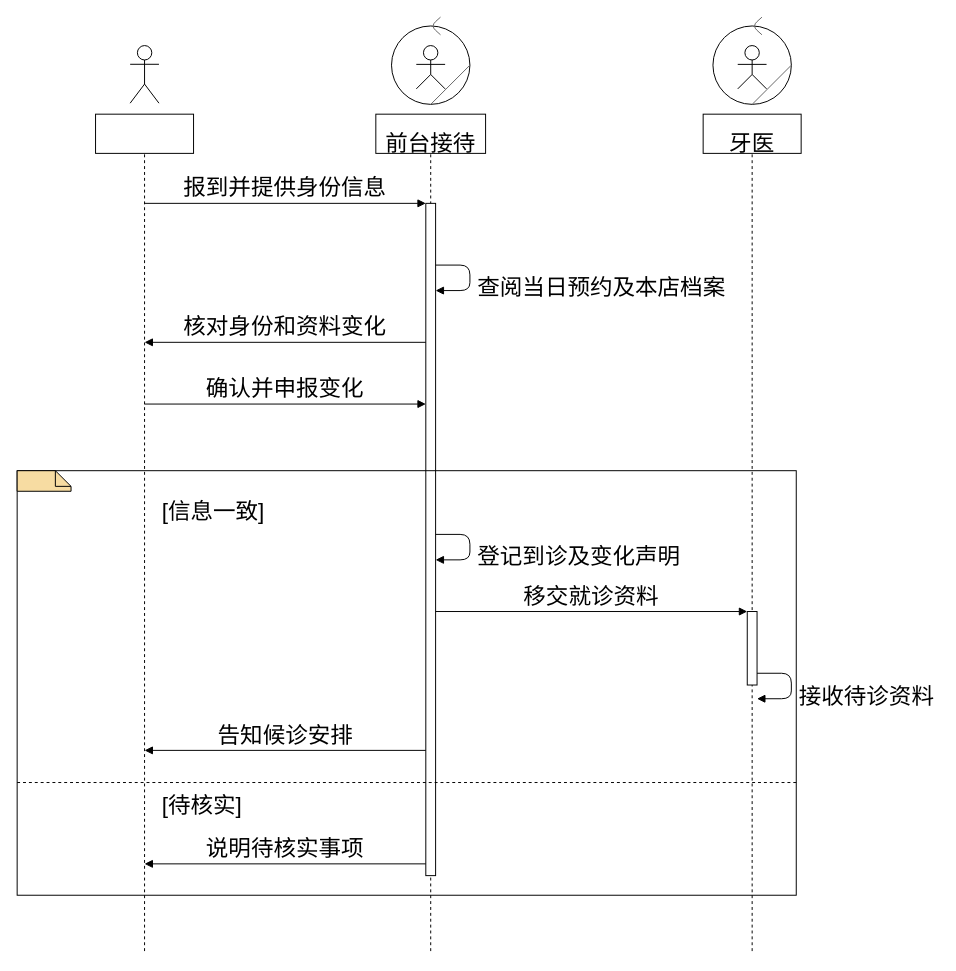
Some shapes in this 956 by 971 pixel diagram are drawn without their labels. The centre of each missing label's shape, as x and y in pixels:
alt: point 43,480
患者: point 144,133
